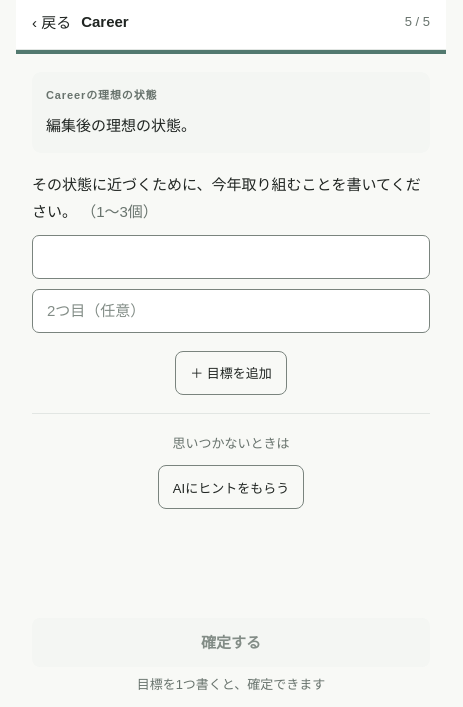
S-56 › 「＋ 目標を追加」で3つ目の欄が増え、3つに達すると消える
The image size is (463, 707).
Click the button with class "s56__ghost-button" showing "＋ 目標を追加". click: (231, 373)
box: [175,351,287,395]
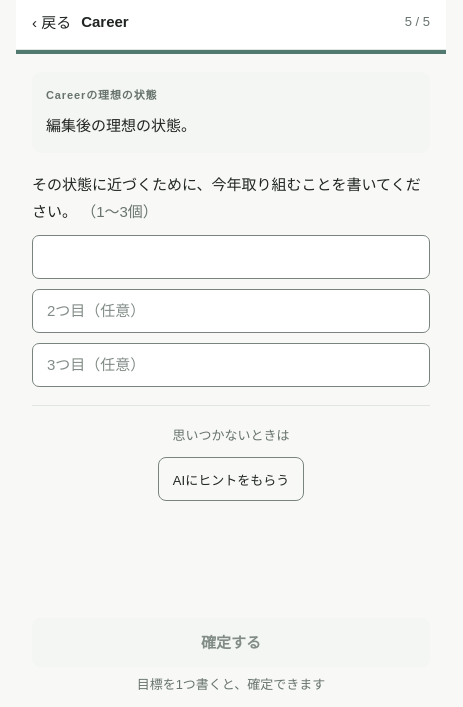
Check: the number of fields with class "s56__input" is 3, box [32,235,430,279]; [32,289,430,333]; [32,343,430,387]
